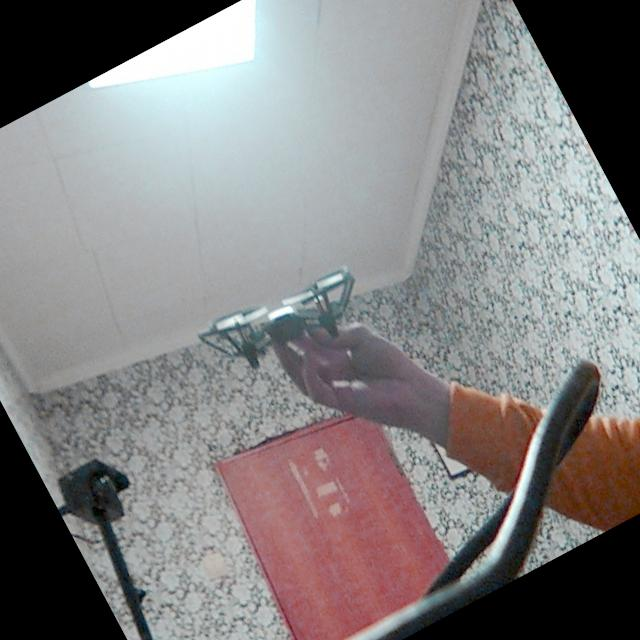drone: (180, 228, 386, 402)
